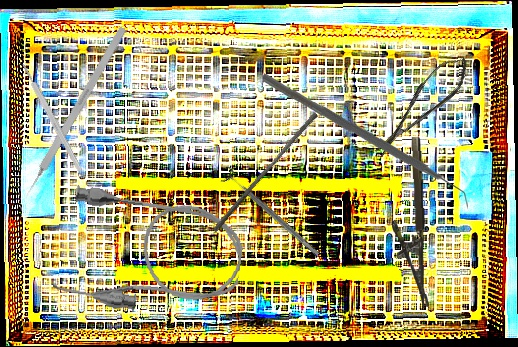Cannula: (50, 182, 249, 326)
Chopper: (262, 66, 469, 222)
Fixation Ring: (219, 167, 325, 262)
Hook Surgical: (19, 26, 128, 203)
Micro Scissor: (363, 48, 479, 164)
Needle Holder: (389, 136, 428, 309)
Pusher: (212, 108, 319, 237)
Scalpel Handle: (20, 61, 84, 174)
